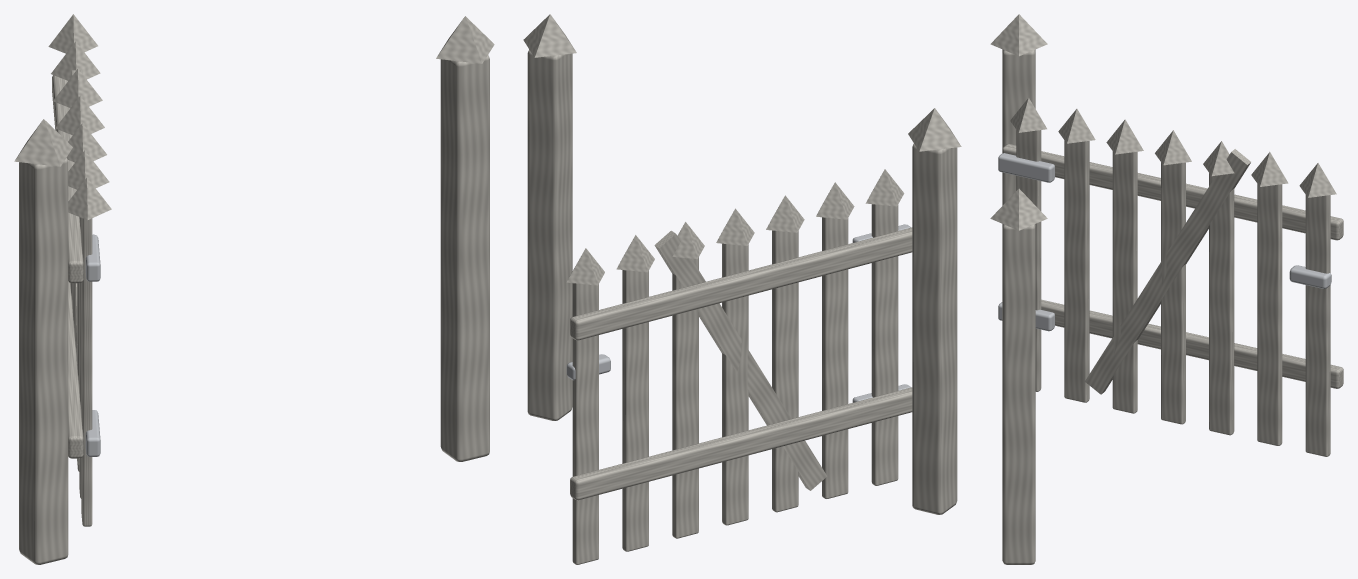
File: halloween-slasher-street-picket-fence-gate-open-a904a819__27280.glb
The picture shows the model from 3 angles, left to right: view 1: azimuth 30°, elevation 25°; view 2: azimuth 150°, elevation 25°; view 3: azimuth 270°, elevation 25°; orthographic projection. The views are drawn at different scales.
Parts seen in each view (by area): view 1: picket-fence-gate-open, gate-leaf (×2); view 2: gate-leaf (×2), picket-fence-gate-open; view 3: gate-leaf (×2), picket-fence-gate-open.
Part boxes in pixels (x1,y1,x2,y2): picket-fence-gate-open: [14, 16, 494, 564]; gate-leaf (×2): [48, 14, 111, 526]; gate-leaf (×2): [566, 169, 912, 564]; picket-fence-gate-open: [523, 14, 961, 514]; gate-leaf (×2): [998, 97, 1343, 456]; picket-fence-gate-open: [990, 14, 1047, 564].
Size of the model in its own units: 1.55 by 1.35 by 1.16.
Materials: 2 (1 with a texture image).
